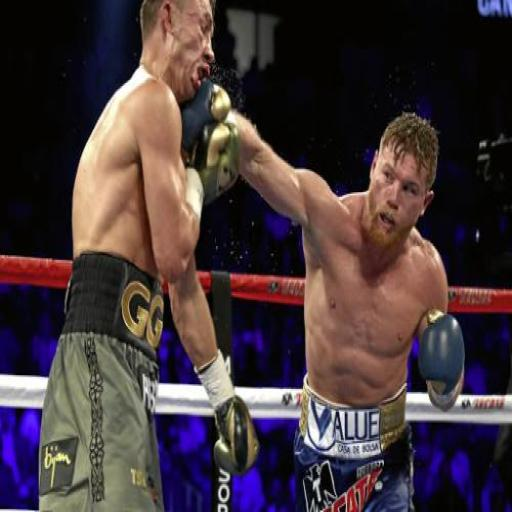boxing: (178, 74, 466, 510), (36, 0, 259, 510)
